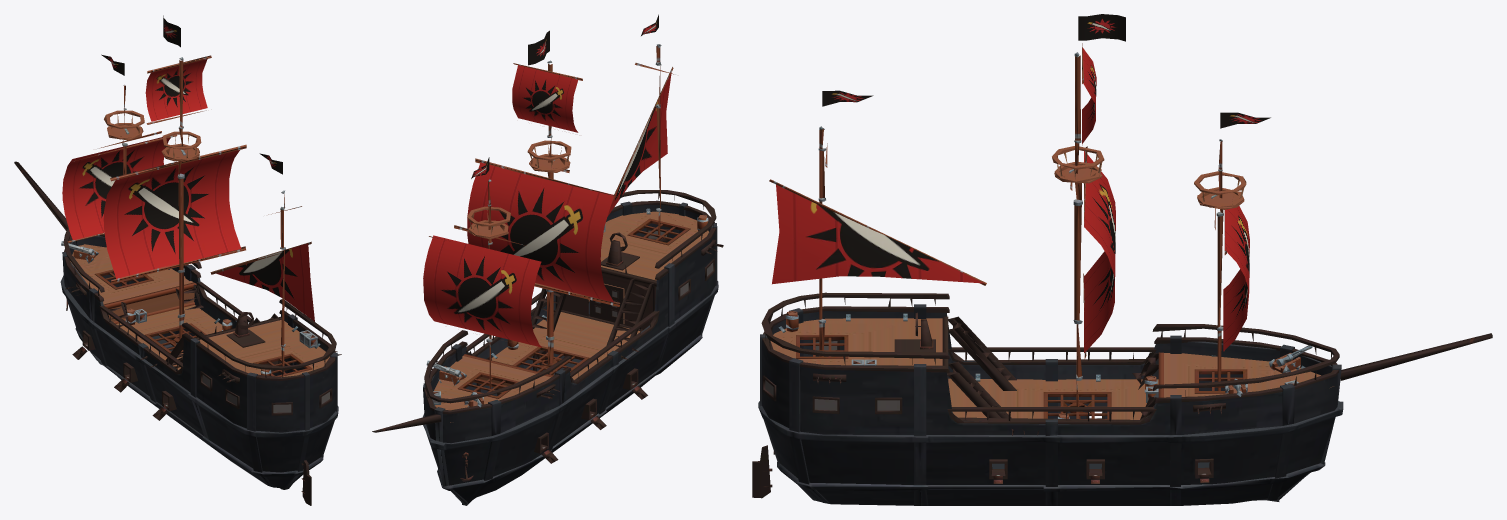
The model's file is corsair-brig.glb.
3 renders of one model, left to right at view 1: azimuth 30°, elevation 25°; view 2: azimuth 150°, elevation 25°; view 3: azimuth 270°, elevation 25°, orthographic. The views are drawn at different scales.
Visible parts, largest first — view 1: StylShip_Body_Mat_StylShip_ShipHull_0, StylShip_SailBack_Mat_StylShip_SailsRope_0, StylShip_Anchor_Mat_StylShip_Elements_0; view 2: StylShip_Body_Mat_StylShip_ShipHull_0, StylShip_SailBack_Mat_StylShip_SailsRope_0, StylShip_Anchor_Mat_StylShip_Elements_0; view 3: StylShip_Body_Mat_StylShip_ShipHull_0, StylShip_Anchor_Mat_StylShip_Elements_0, StylShip_SailBack_Mat_StylShip_SailsRope_0.
Part boxes in pixels (bbox=[...]): StylShip_Body_Mat_StylShip_ShipHull_0: bbox=[60, 55, 338, 489]; StylShip_SailBack_Mat_StylShip_SailsRope_0: bbox=[62, 15, 314, 321]; StylShip_Anchor_Mat_StylShip_Elements_0: bbox=[14, 161, 341, 505]; StylShip_Body_Mat_StylShip_ShipHull_0: bbox=[423, 44, 718, 505]; StylShip_SailBack_Mat_StylShip_SailsRope_0: bbox=[423, 14, 671, 347]; StylShip_Anchor_Mat_StylShip_Elements_0: bbox=[372, 190, 723, 481]; StylShip_Body_Mat_StylShip_ShipHull_0: bbox=[758, 43, 1343, 505]; StylShip_Anchor_Mat_StylShip_Elements_0: bbox=[752, 292, 1492, 498]; StylShip_SailBack_Mat_StylShip_SailsRope_0: bbox=[772, 14, 1270, 352].
Size of the model in its own units: 7.42 by 20.2 by 28.
3 materials, 3 textured.
